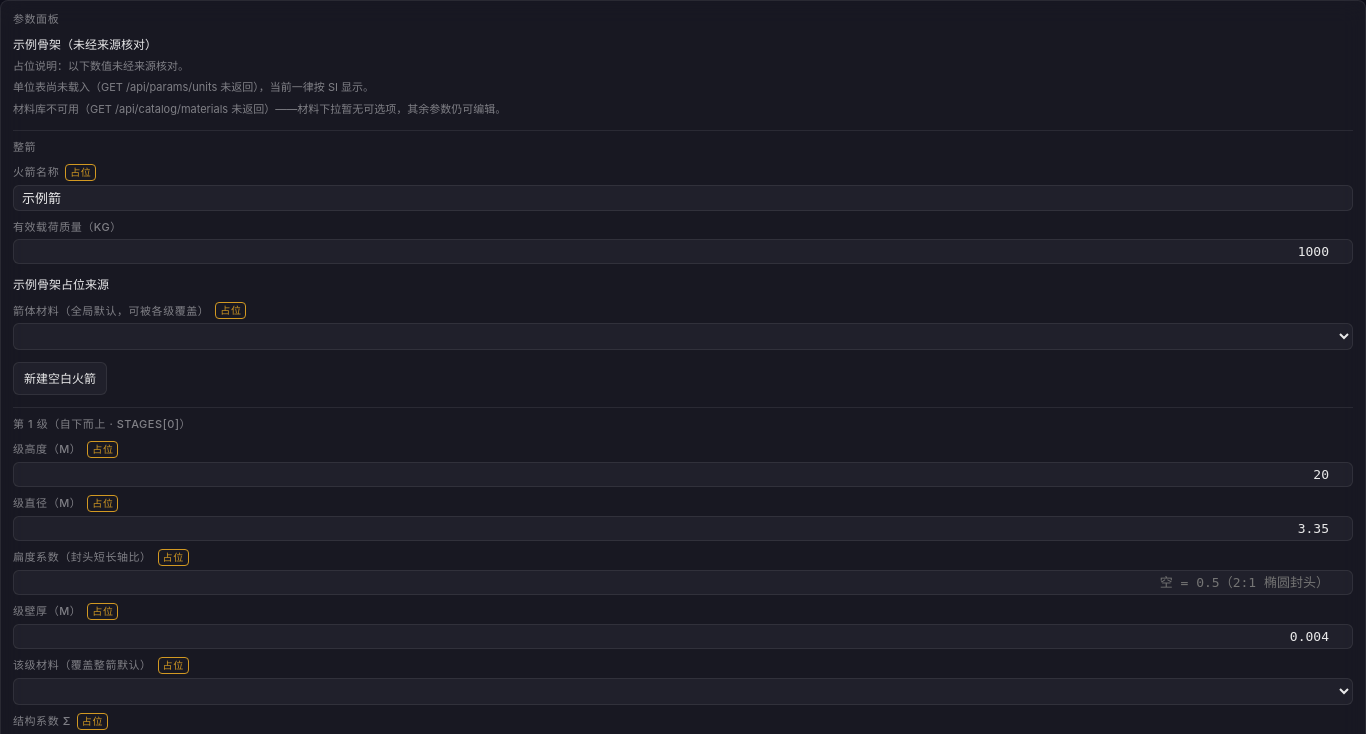
Scenario: OI-39 型号检索候选下拉 › 检索无命中：给出未找到提示（不静默）
Replace the text in the field labelled "火箭名称 占位" with "zzzz". click: (683, 198)
box: [13,185,1353,211]
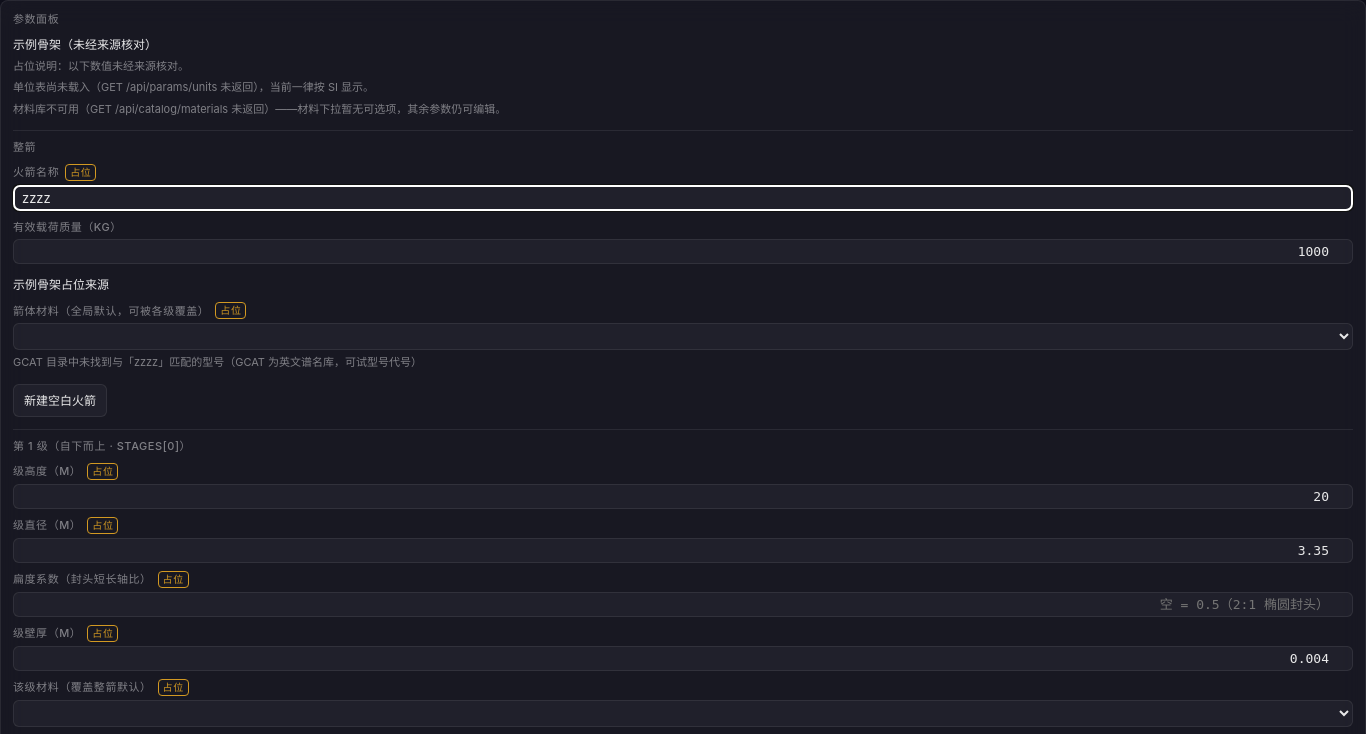
Expected: the text "GCAT 目录中未找到与「zzzz」匹配的型号（GCAT 为英文谱名库，可试型号代号）" is shown, [13,355,422,369]
